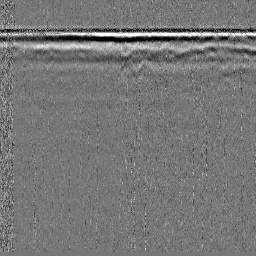cavity: (116, 56, 138, 77)
